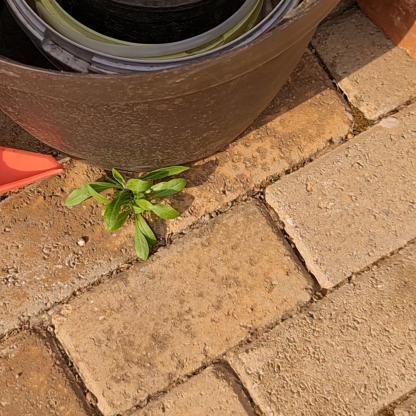Weeds: (64, 165, 192, 262)
